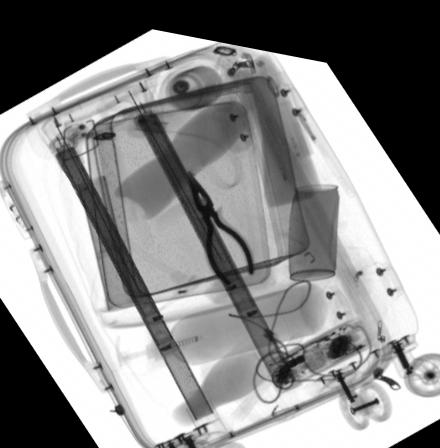Pliers: (186, 164, 255, 277)
